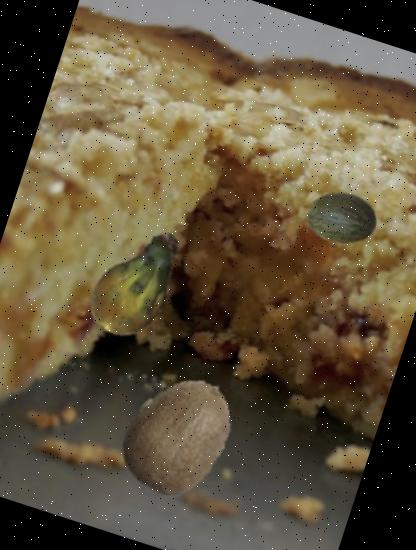Cactus: (61, 206, 210, 356)
Kiwi: (100, 356, 260, 516)
Melon: (298, 176, 385, 262)
